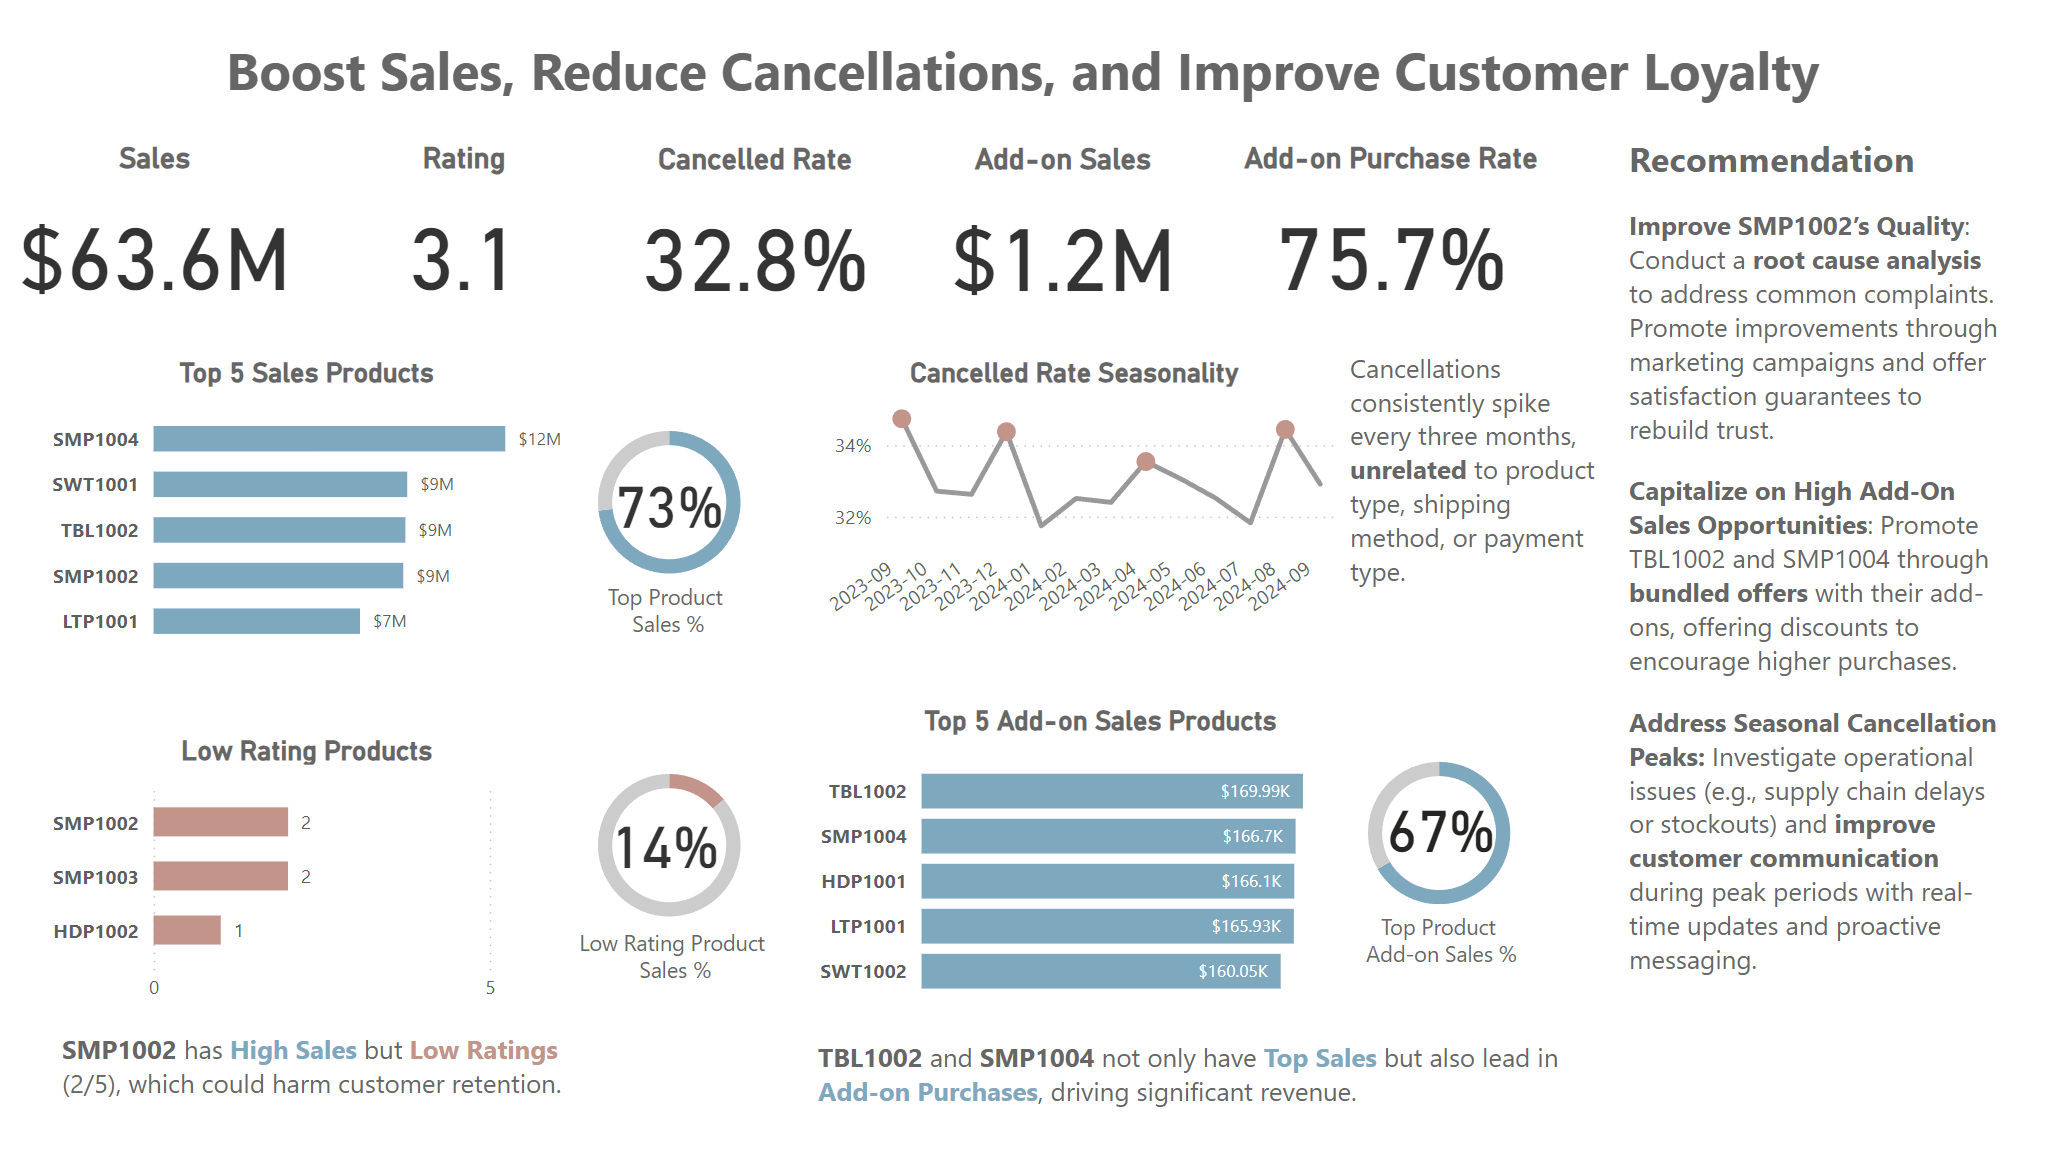

This screenshot's page, from the dashboard's own definition file:
{"tool":"powerbi","page":{"name":"Product Performance","canvas":[1280,720],"ordinal":0},"visuals":[{"type":"donutChart","fields":{"Y":["Calculation.top5 sales","Calculation.other sales"]},"box":[356.8,254.1,120.3,120.3],"z":0},{"type":"clusteredBarChart","title":"Top 5 Sales Products","fields":{"Category":["product_performance.sku"],"Y":["Calculation.sales"]},"box":[29.3,224.1,327.5,189.4],"z":1000},{"type":"card","fields":{"Values":["Calculation.low rating contribution"]},"box":[374.5,502.2,79.6,44.7],"z":2000},{"type":"card","fields":{"Values":["Calculation.top5 contribution"]},"box":[375.5,293.1,82.9,42.3],"z":3000},{"type":"clusteredBarChart","title":"Low Rating Products","fields":{"Category":["product_performance.sku"],"Y":["Calculation.rating"]},"box":[29.1,457.5,327.5,174.7],"z":4000},{"type":"donutChart","fields":{"Y":["Calculation.low rating sales","Calculation.not low rating sales"]},"box":[356.6,466.4,120.3,120.3],"z":5000},{"type":"lineChart","title":"Cancelled Rate Seasonality","fields":{"Category":["product_performance.year_month"],"Y":["Calculation.return rate"]},"box":[502.2,224,331.1,178.4],"z":6000},{"type":"textbox","box":[833.3,215.4,167.8,187],"z":7000},{"type":"card","title":"Cancelled Rate","fields":{"Values":["Calculation.cancel rate"]},"box":[383,91.2,174.7,111.9],"z":8000},{"type":"card","title":"Add-on Purchase Rate","fields":{"Values":["Calculation.addon purchase rate"]},"box":[764.2,91,199.2,111.9],"z":9000},{"type":"card","title":"Add-on Sales","fields":{"Values":["Calculation.addon sales"]},"box":[568.1,91.3,185.6,111.9],"z":10000},{"type":"card","title":"Sales","fields":{"Values":["Calculation.sales"]},"box":[0,91,197.4,111.9],"z":11000},{"type":"card","title":"Rating","fields":{"Values":["Calculation.rating"]},"box":[207.9,91.2,164.7,111.9],"z":12000},{"type":"textbox","box":[1005.8,82.3,239.4,611.8],"z":13000},{"type":"clusteredBarChart","title":"Top 5 Add-on Sales Products","fields":{"Category":["product_performance.sku"],"Y":["Calculation.addon sales"]},"box":[504.2,439.4,359.5,193],"z":14000},{"type":"donutChart","fields":{"Y":["Calculation.top5 addon sales","Calculation.other addon sales"]},"box":[833.3,458.9,120.1,120.1],"z":15000},{"type":"card","fields":{"Values":["Calculation.top5 addon sales contribution"]},"box":[837.8,486.3,111.9,57.3],"z":16000},{"type":"textbox","box":[365.7,359,101.6,49.6],"z":17000},{"type":"textbox","box":[36.3,636.4,343.6,62.8],"z":18000},{"type":"textbox","box":[350.9,572.9,139.8,51.2],"z":19000},{"type":"textbox","box":[824.3,562.8,140.1,50.9],"z":20000},{"type":"textbox","box":[115.6,19.2,1048.7,64.1],"z":21000},{"type":"textbox","box":[504.2,641.7,471.2,52.9],"z":22000}]}

Visuals, with their boxes in screenshot pixels (x1, y1, x2, y2), scaled from the page's 1280x720 canvas onto the 2060x1154 screenshot:
donutChart - Calculation.top5 sales x Calculation.other sales: box=[574, 407, 768, 600]
"Top 5 Sales Products" clusteredBarChart: box=[47, 359, 574, 663]
card - Calculation.low rating contribution: box=[603, 805, 731, 877]
card - Calculation.top5 contribution: box=[604, 470, 738, 538]
"Low Rating Products" clusteredBarChart: box=[47, 733, 574, 1013]
donutChart - Calculation.low rating sales x Calculation.not low rating sales: box=[574, 748, 768, 940]
"Cancelled Rate Seasonality" lineChart: box=[808, 359, 1341, 645]
textbox: box=[1341, 345, 1611, 645]
"Cancelled Rate" card: box=[616, 146, 898, 326]
"Add-on Purchase Rate" card: box=[1230, 146, 1550, 325]
"Add-on Sales" card: box=[914, 146, 1213, 326]
"Sales" card: box=[0, 146, 318, 325]
"Rating" card: box=[335, 146, 600, 326]
textbox: box=[1619, 132, 2004, 1112]
"Top 5 Add-on Sales Products" clusteredBarChart: box=[811, 704, 1390, 1014]
donutChart - Calculation.top5 addon sales x Calculation.other addon sales: box=[1341, 736, 1534, 928]
card - Calculation.top5 addon sales contribution: box=[1348, 779, 1528, 871]
textbox: box=[589, 575, 752, 655]
textbox: box=[58, 1020, 611, 1121]
textbox: box=[565, 918, 790, 1000]
textbox: box=[1327, 902, 1552, 984]
textbox: box=[186, 31, 1874, 134]
textbox: box=[811, 1029, 1570, 1113]
